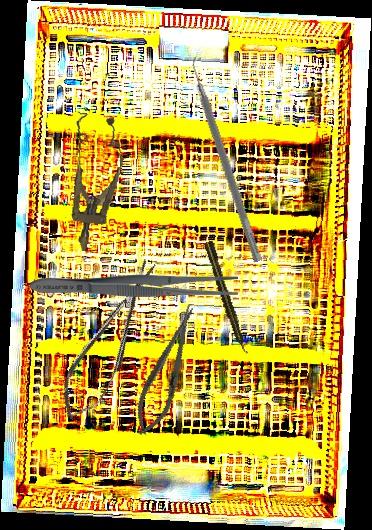Dressing Forceps: (30, 272, 238, 299)
Handpiece: (203, 240, 250, 356)
Micro Scissor: (48, 253, 174, 428)
Needle Holder: (126, 300, 208, 442)
Spatula Surgical: (184, 54, 272, 263)
Speculum: (56, 111, 130, 256)
